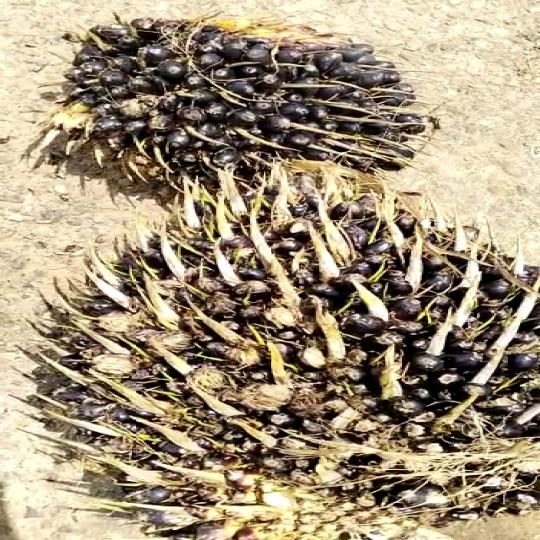mentah: (11, 173, 540, 539), (16, 2, 490, 193)
